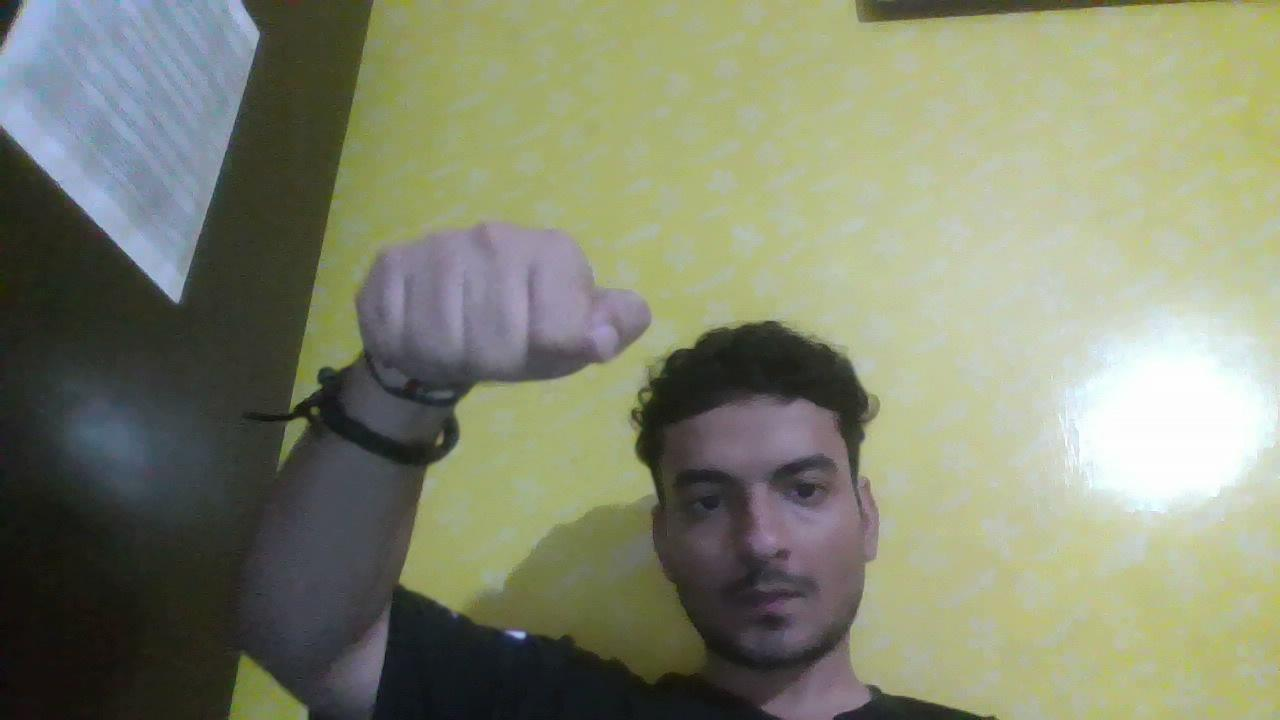Yes: (343, 212, 673, 416)
